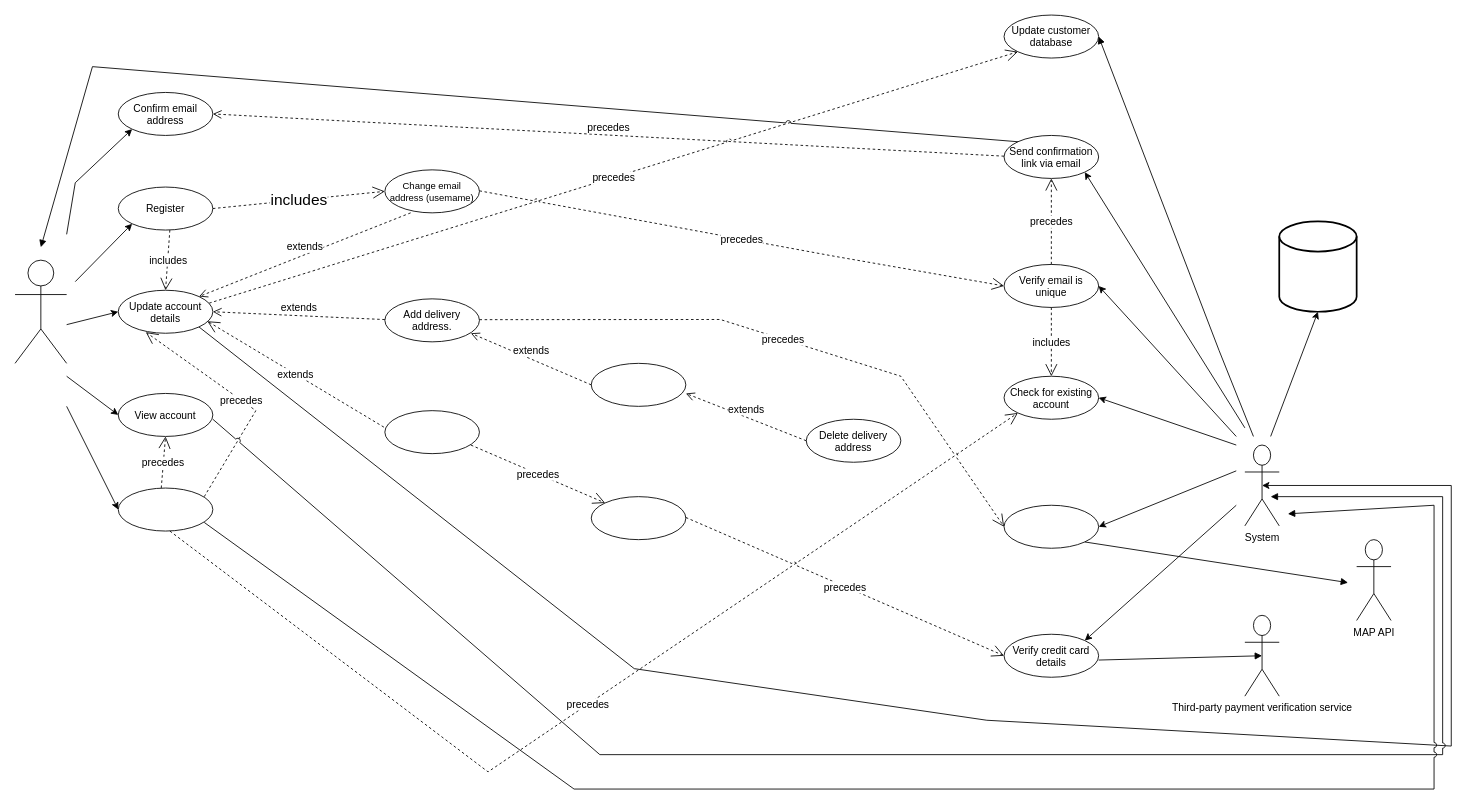
Some shapes in this 1473 by 811 pixel diagram are drawn without their labels. The centre of each missing label's shape, as x and y in pixels:
"Add payment method" belongs at pixel 431 432.
"Customer" belongs at pixel 40 311.
"Customer database" belongs at pixel 1317 266.
"Enter payment details" belongs at pixel 638 518.
"Login" belongs at pixel 165 509.
"Update delivery address" belongs at pixel 638 384.
"Verify valid address" belongs at pixel 1051 526.
